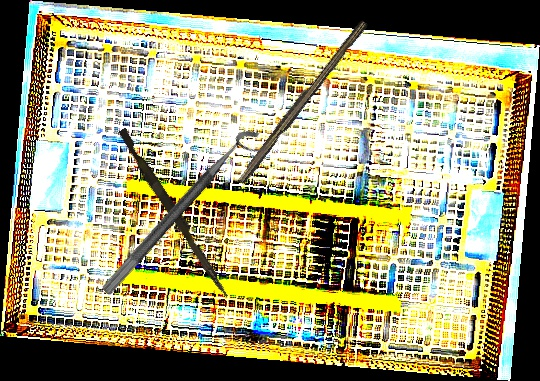Fixation Ring: (100, 123, 271, 308)
Pusher: (113, 127, 236, 299)
Scalpel Handle: (234, 15, 369, 188)
